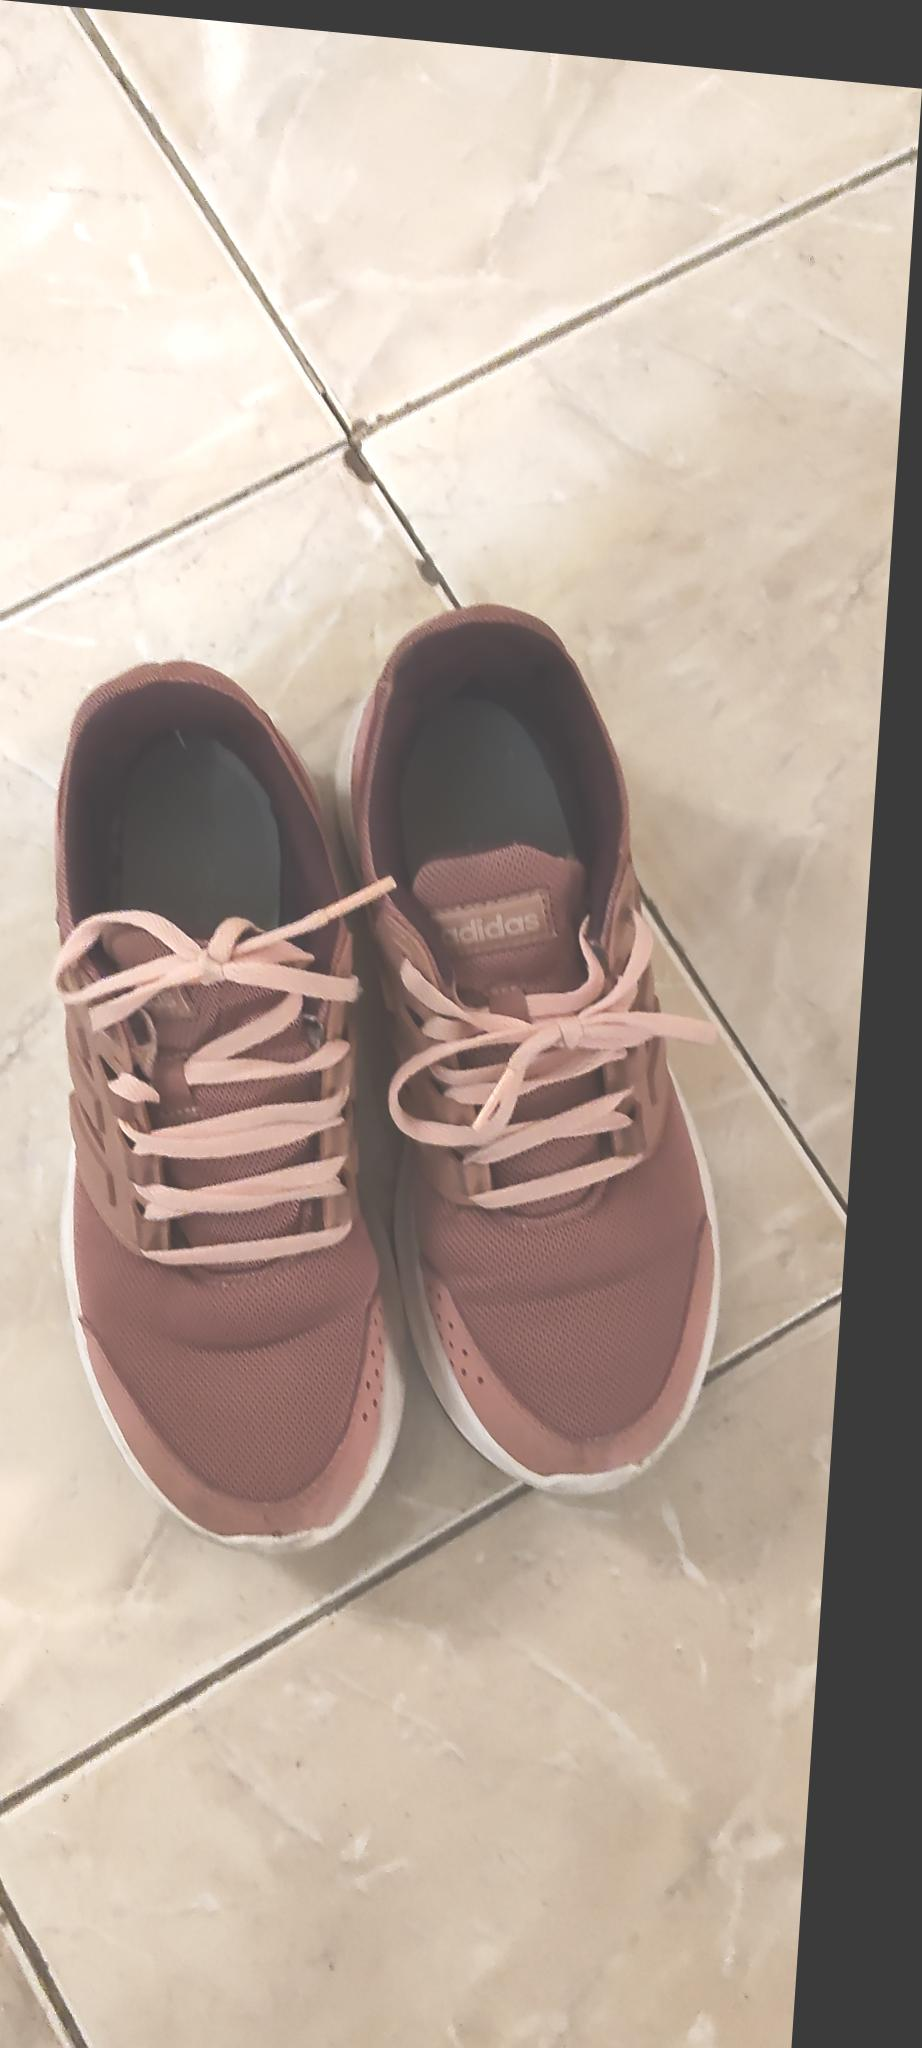Shoes: (300, 591, 768, 1508), (11, 648, 457, 1569)
